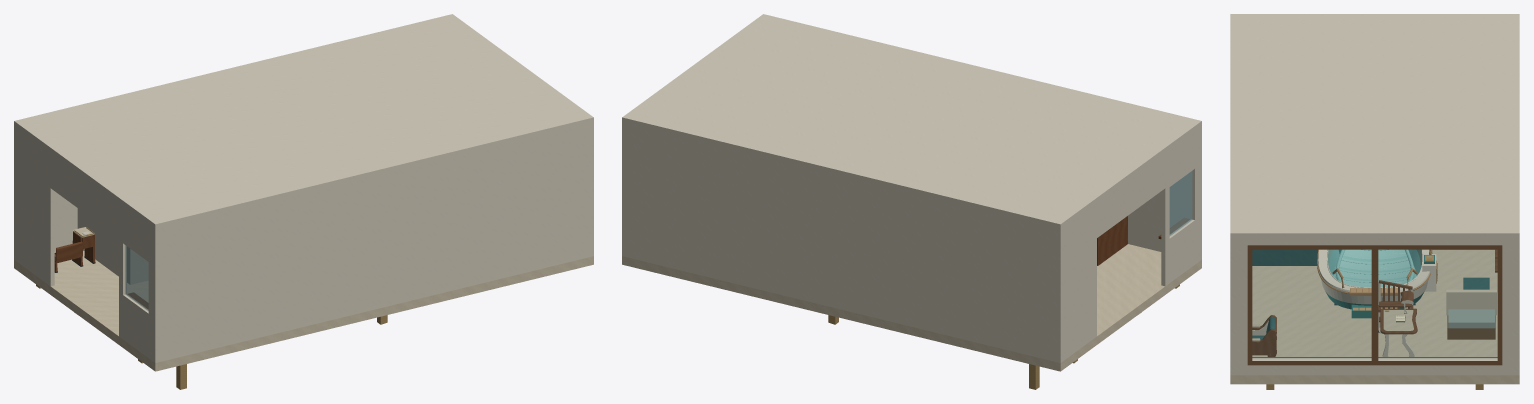
File: NG404_PanoramicSuite_r001.glb
3 renders of one model, left to right at view 1: azimuth 30°, elevation 25°; view 2: azimuth 150°, elevation 25°; view 3: azimuth 270°, elevation 25°, orthographic. The views are drawn at different scales.
Parts seen in each view (by area): view 1: NG404_RuntimeBatch_001, NG404_RoomFloor, NG404_ScreenedStreetGlass, NG404_RuntimeBatch_013; view 2: NG404_RuntimeBatch_001, NG404_RoomFloor, NG404_ScreenedStreetGlass, NG404_RuntimeBatch_002; view 3: NG404_RuntimeBatch_001, NGP_404_PrivateViewPane, NG404_RoomFloor, NG404_ReservedRestSupport_01__WaterSurface_VisualOnly, NG404_ReservedRestSupport_01__Contoured broad immersed rest , NG404_ReservedRestSupport_01__Hollow continuous basin shell , NGP_404_Frame_Sill, NG404_RuntimeBatch_006, NGP_404_Frame_Head, NGP_404_ViewSeat_Back, NGP_404_ViewSeat_Cushion, NGP_404_RetainedFrameAlignment (+9 smaller).
Part boxes in pixels (left/top/right/bottom): NG404_RuntimeBatch_001: left=14, top=14, right=593, bottom=362; NG404_RoomFloor: left=14, top=250, right=593, bottom=371; NG404_ScreenedStreetGlass: left=125, top=245, right=148, bottom=310; NG404_RuntimeBatch_013: left=54, top=231, right=95, bottom=271; NG404_RuntimeBatch_001: left=622, top=14, right=1201, bottom=362; NG404_RoomFloor: left=622, top=244, right=1201, bottom=371; NG404_ScreenedStreetGlass: left=1169, top=171, right=1192, bottom=235; NG404_RuntimeBatch_002: left=1097, top=216, right=1190, bottom=265; NG404_RuntimeBatch_001: left=1230, top=14, right=1519, bottom=375; NGP_404_PrivateViewPane: left=1252, top=250, right=1497, bottom=358; NG404_RoomFloor: left=1230, top=250, right=1519, bottom=384; NG404_ReservedRestSupport_01__WaterSurface_VisualOnly: left=1329, top=250, right=1420, bottom=286; NG404_ReservedRestSupport_01__Contoured broad immersed rest : left=1335, top=249, right=1414, bottom=287; NG404_ReservedRestSupport_01__Hollow continuous basin shell : left=1318, top=249, right=1429, bottom=309; NGP_404_Frame_Sill: left=1247, top=357, right=1502, bottom=365; NG404_RuntimeBatch_006: left=1252, top=249, right=1489, bottom=289; NGP_404_Frame_Head: left=1247, top=245, right=1502, bottom=249; NGP_404_ViewSeat_Back: left=1446, top=289, right=1496, bottom=315; NGP_404_ViewSeat_Cushion: left=1448, top=309, right=1494, bottom=328; NGP_404_RetainedFrameAlignment: left=1371, top=249, right=1378, bottom=360.
Bounding box in the file's own units: 12.9 × 5.31 × 7.2.
71 materials, 49 textured.
